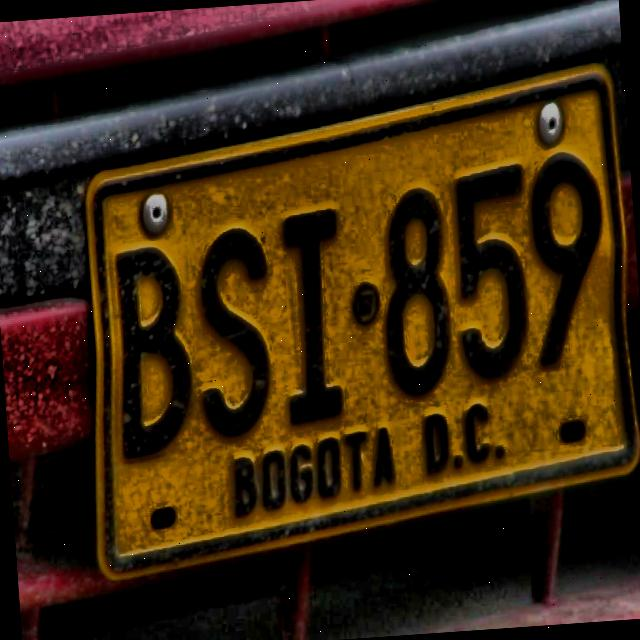5: (446, 159, 534, 392)
8: (375, 180, 459, 407)
9: (524, 145, 611, 374)
B: (109, 234, 204, 466)
I: (272, 201, 352, 433)
S: (185, 217, 278, 451)
